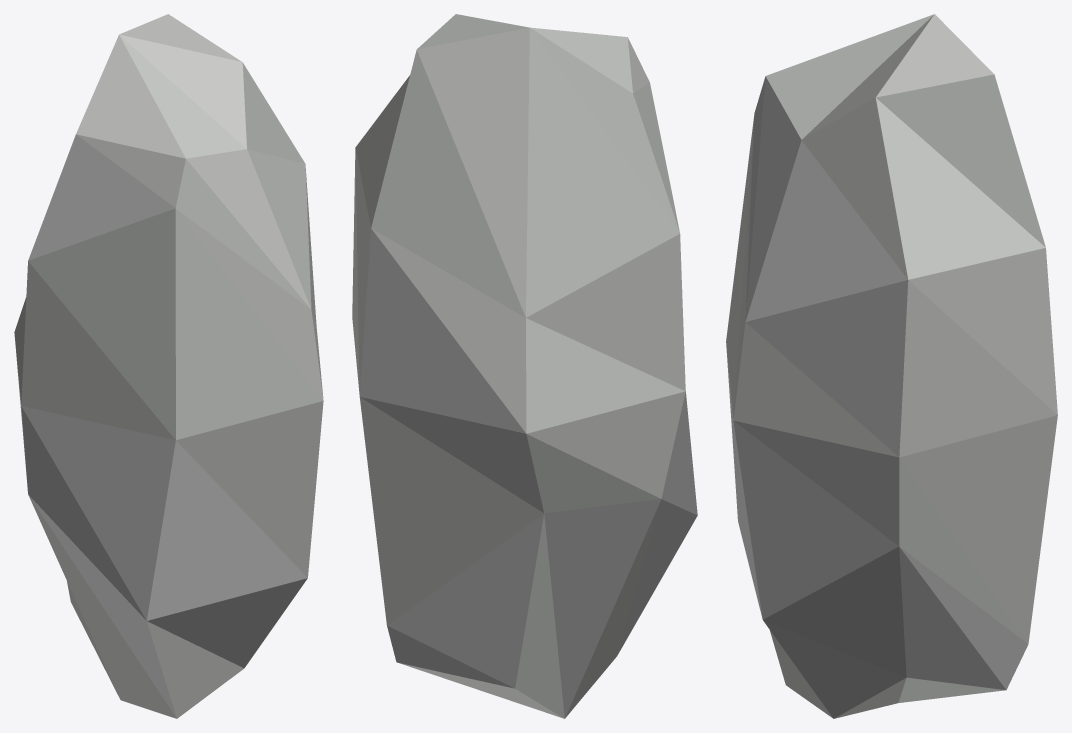
File: Rock_Light_4.fbx
3 views of the same model, side by side, from view 1: azimuth 30°, elevation 25°; view 2: azimuth 150°, elevation 25°; view 3: azimuth 270°, elevation 25° (orthographic). The views are drawn at different scales.
Visible parts, largest first — view 1: Rock_Light_4; view 2: Rock_Light_4; view 3: Rock_Light_4.
Boxes of the visible parts, left/top/right/bottom form: Rock_Light_4: left=14, top=14, right=323, bottom=718; Rock_Light_4: left=352, top=14, right=697, bottom=718; Rock_Light_4: left=726, top=14, right=1057, bottom=718.
Size of the model in its own units: 2 by 4.1 by 1.77.
